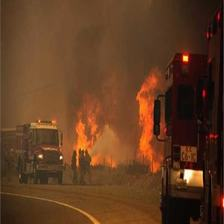fire: (69, 75, 120, 169), (130, 60, 171, 175)
